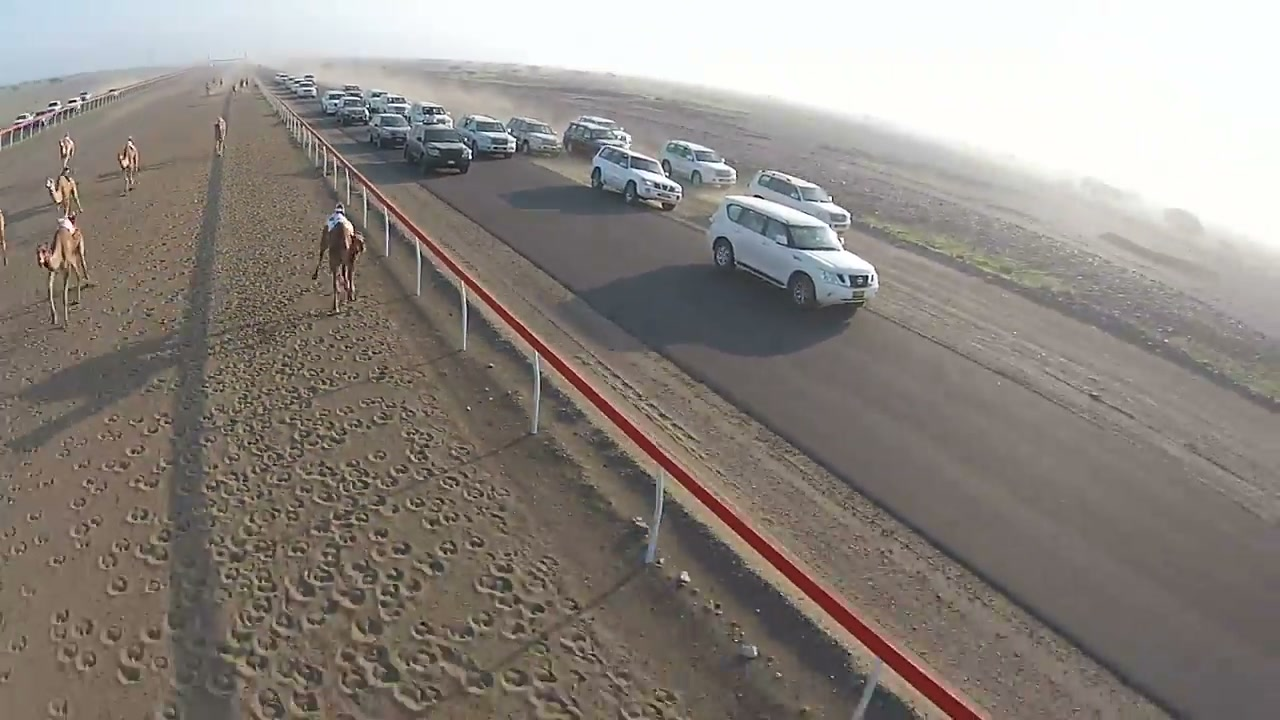animal_footprint: (0, 153, 690, 719), (209, 311, 684, 717), (206, 368, 617, 716), (0, 183, 243, 719), (210, 337, 443, 715), (27, 403, 216, 715), (0, 403, 171, 717), (50, 609, 101, 673), (616, 690, 682, 719), (528, 686, 583, 719), (392, 678, 443, 712), (249, 686, 289, 719), (286, 685, 321, 716), (498, 667, 532, 692), (148, 699, 187, 719), (128, 473, 162, 491), (81, 475, 107, 495), (46, 698, 70, 719), (0, 666, 11, 685)
